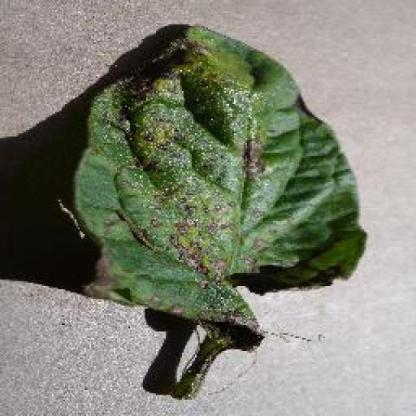Tomato_Blight: (76, 25, 368, 346)
